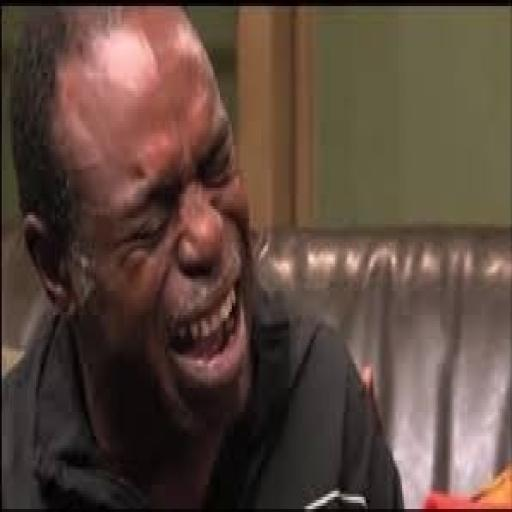laughing: (5, 6, 406, 506)
